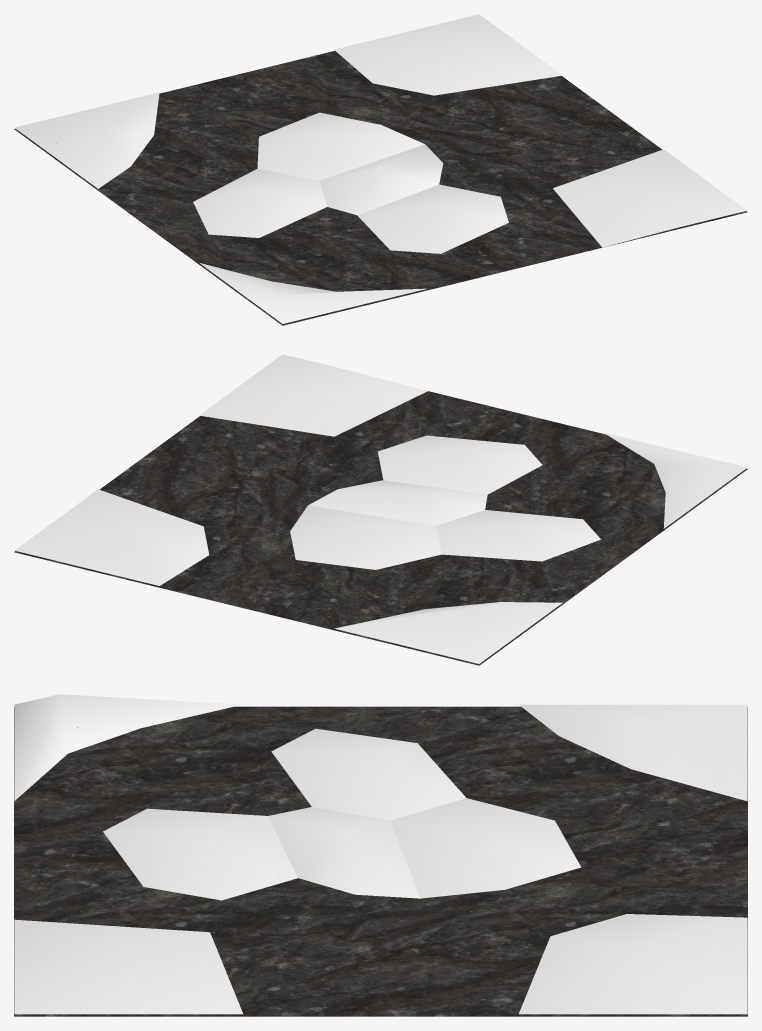
The model's file is pm-garden-03.glb.
3 renders of one model, top to bottom at view 1: azimuth 30°, elevation 25°; view 2: azimuth 150°, elevation 25°; view 3: azimuth 270°, elevation 25°, orthographic. The views are drawn at different scales.
Parts seen in each view (by area): view 1: Garden_03_Art; view 2: Garden_03_Art; view 3: Garden_03_Art.
Boxes of the visible parts, x1,y1,x2,y2 form: Garden_03_Art: [14, 14, 747, 325]; Garden_03_Art: [14, 354, 747, 665]; Garden_03_Art: [14, 694, 747, 1016].
Bounding box in the file's own units: 15.98 × 0.5015 × 15.98.
Materials: 2 (2 with a texture image).
